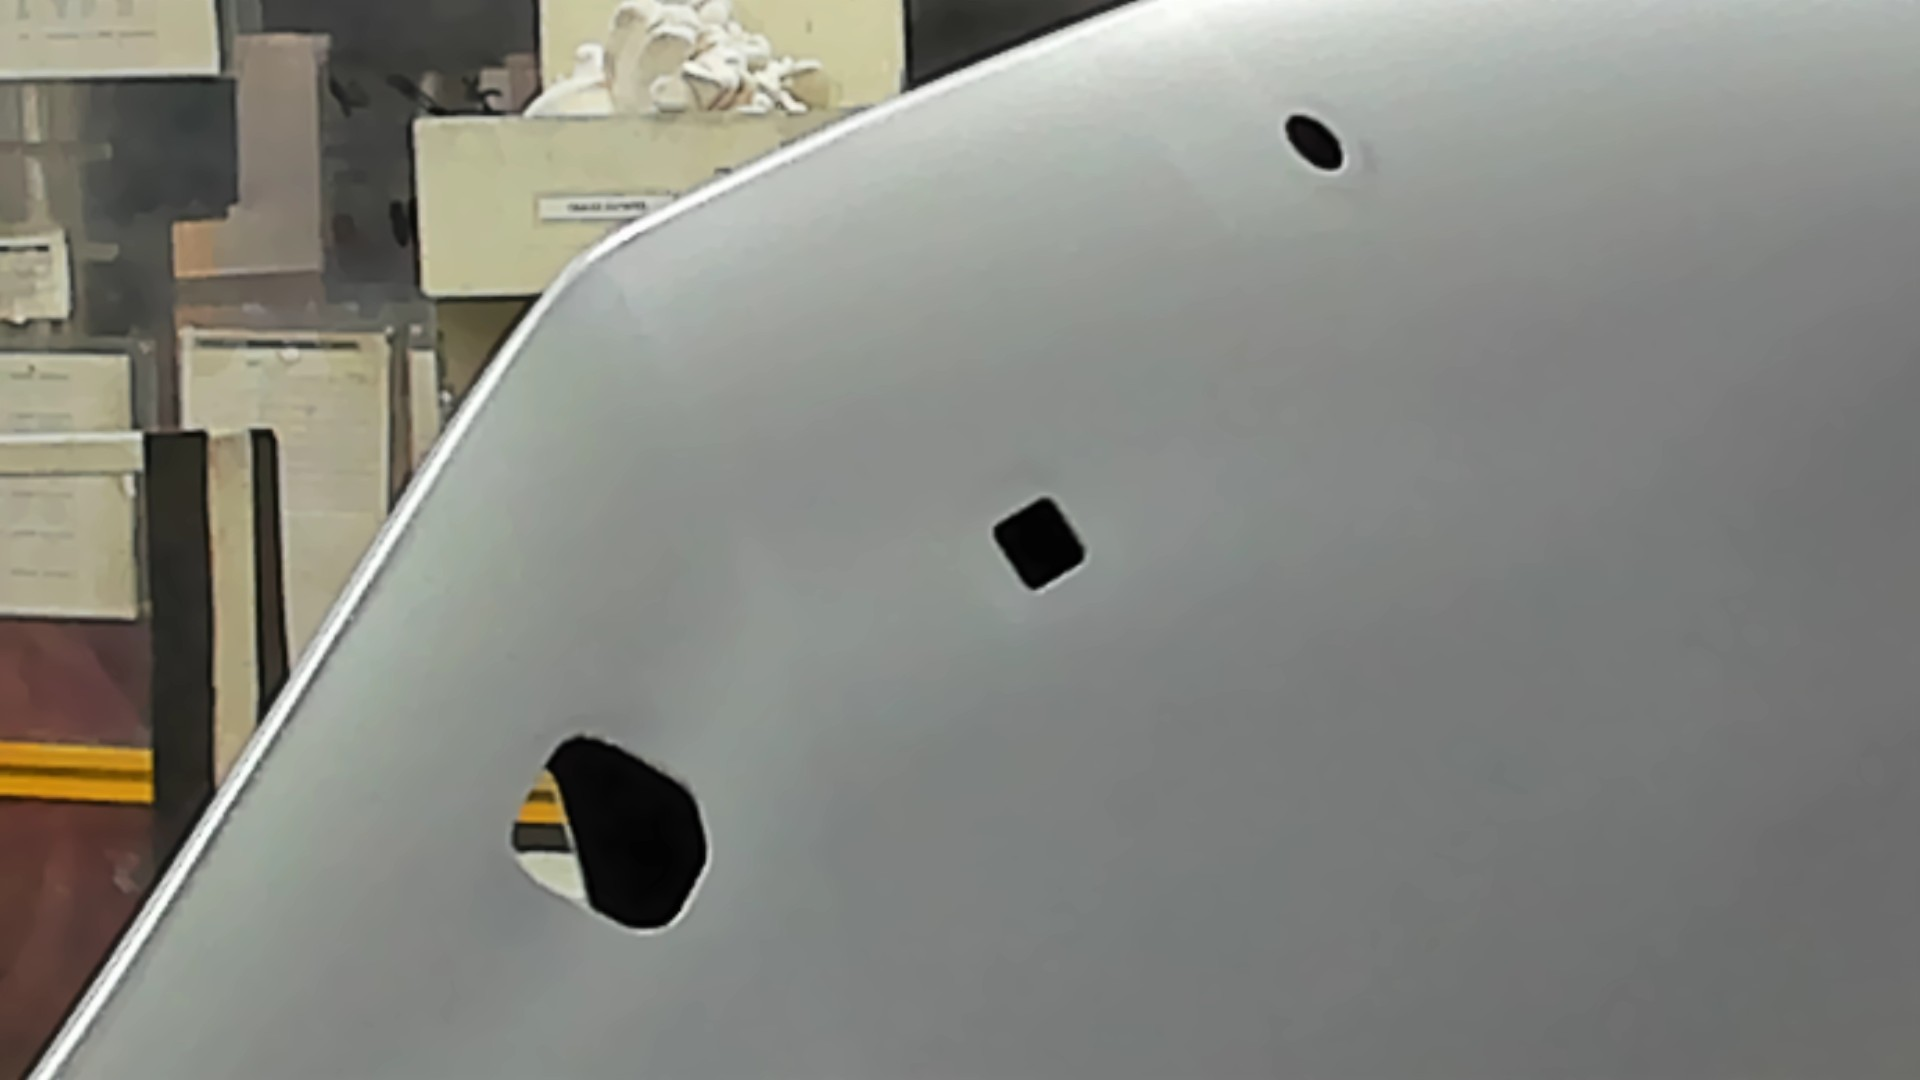chico: (1279, 103, 1350, 182)
grande: (504, 728, 713, 945)
mediano: (986, 491, 1084, 593)
